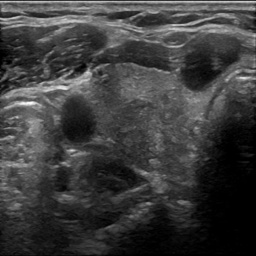mass: (115, 94, 190, 173)
